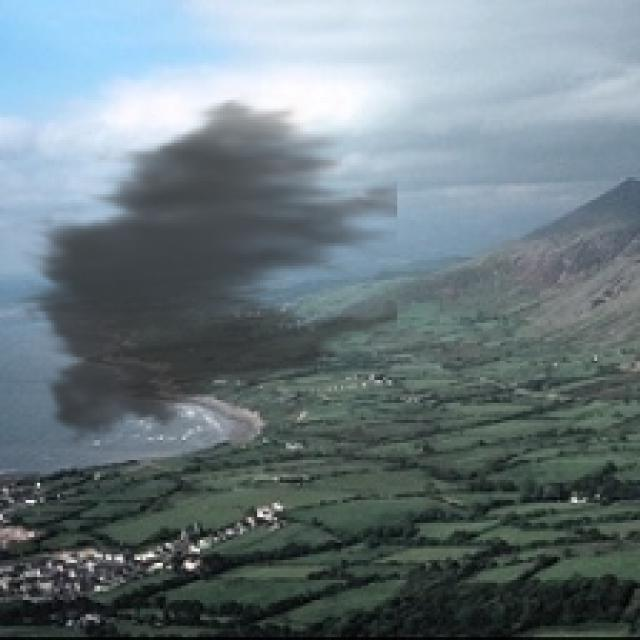Smoke: (14, 88, 397, 454)
